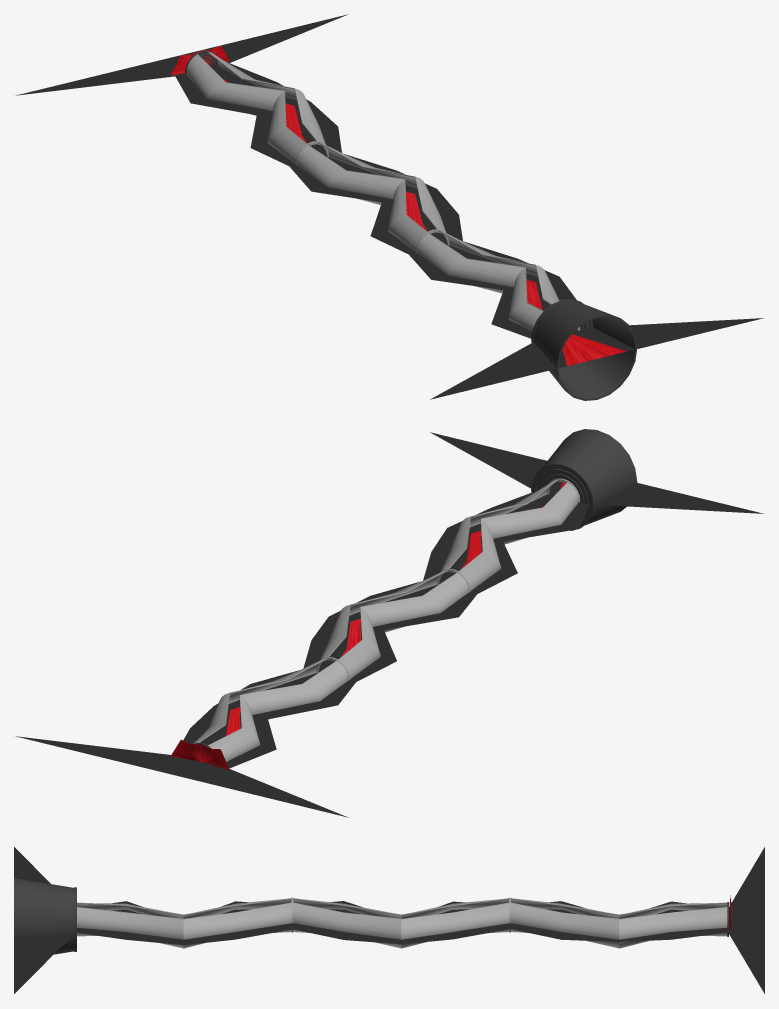
The model's file is InfiniteHallwayUpdate.fbx.
3 renders of one model, top to bottom at view 1: azimuth 30°, elevation 25°; view 2: azimuth 150°, elevation 25°; view 3: azimuth 270°, elevation 25°, orthographic. The views are drawn at different scales.
Visible parts, largest first — view 1: pPlane2, polySurface91, pPlane1, polySurface84, polySurface80, polySurface78, polySurface76, polySurface82, polySurface86, polySurface88, polySurface79, polySurface83; view 2: pPlane2, polySurface91, polySurface82, polySurface76, polySurface86, pPlane1, polySurface78, polySurface80, polySurface84, polySurface88, polySurface75, polySurface81; view 3: pPlane2, polySurface91, polySurface77, polySurface75, polySurface79, polySurface81, polySurface83, polySurface85, polySurface87, polySurface88, polySurface76, polySurface82 (+4 smaller).
Part boxes in pixels (bbox=[...]): pPlane2: bbox=[16, 14, 763, 399]; polySurface91: bbox=[531, 299, 637, 400]; pPlane1: bbox=[170, 45, 626, 365]; polySurface84: bbox=[417, 233, 524, 293]; polySurface80: bbox=[296, 145, 404, 205]; polySurface78: bbox=[186, 54, 284, 115]; polySurface76: bbox=[267, 91, 306, 163]; polySurface82: bbox=[388, 179, 426, 251]; polySurface86: bbox=[508, 268, 543, 330]; polySurface88: bbox=[207, 51, 551, 304]; polySurface79: bbox=[320, 143, 425, 188]; polySurface83: bbox=[441, 231, 537, 276]; pPlane2: bbox=[16, 432, 763, 817]; polySurface91: bbox=[531, 429, 637, 530]; polySurface82: bbox=[361, 572, 469, 632]; polySurface76: bbox=[240, 661, 348, 719]; polySurface86: bbox=[481, 482, 579, 544]; pPlane1: bbox=[171, 478, 567, 770]; polySurface78: bbox=[208, 695, 260, 761]; polySurface80: bbox=[339, 607, 380, 679]; polySurface84: bbox=[459, 519, 501, 591]; polySurface88: bbox=[198, 479, 557, 742]; polySurface75: bbox=[228, 658, 327, 703]; polySurface81: bbox=[349, 570, 447, 615]; pPlane2: bbox=[14, 847, 764, 993]; polySurface91: bbox=[14, 878, 76, 954]; polySurface77: bbox=[619, 907, 727, 948]; polySurface75: bbox=[511, 903, 619, 948]; polySurface79: bbox=[401, 903, 509, 948]; polySurface81: bbox=[293, 903, 401, 948]; polySurface83: bbox=[183, 903, 291, 948]; polySurface85: bbox=[77, 907, 183, 948]; polySurface87: bbox=[77, 898, 727, 915]; polySurface88: bbox=[77, 902, 726, 919]; polySurface76: bbox=[511, 898, 619, 918]; polySurface82: bbox=[293, 899, 401, 918].
Bounding box in the file's own units: 21416 × 5125 × 45896.
4 materials, 1 textured.
